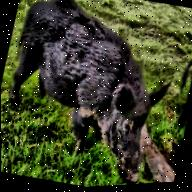boar: (0, 0, 188, 190)
